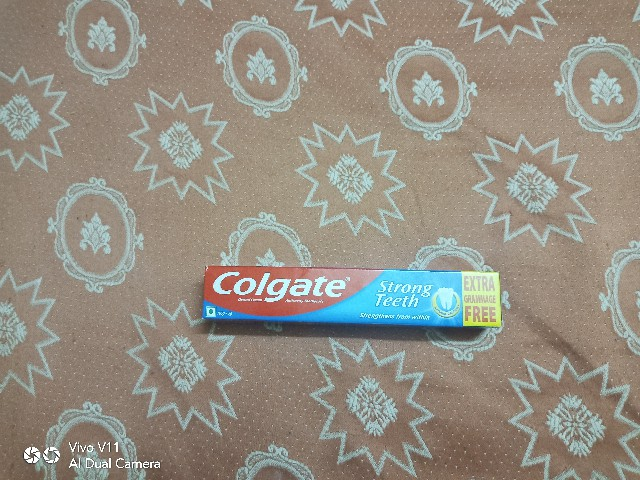colgatetoothpaste big: (188, 240, 515, 347)
